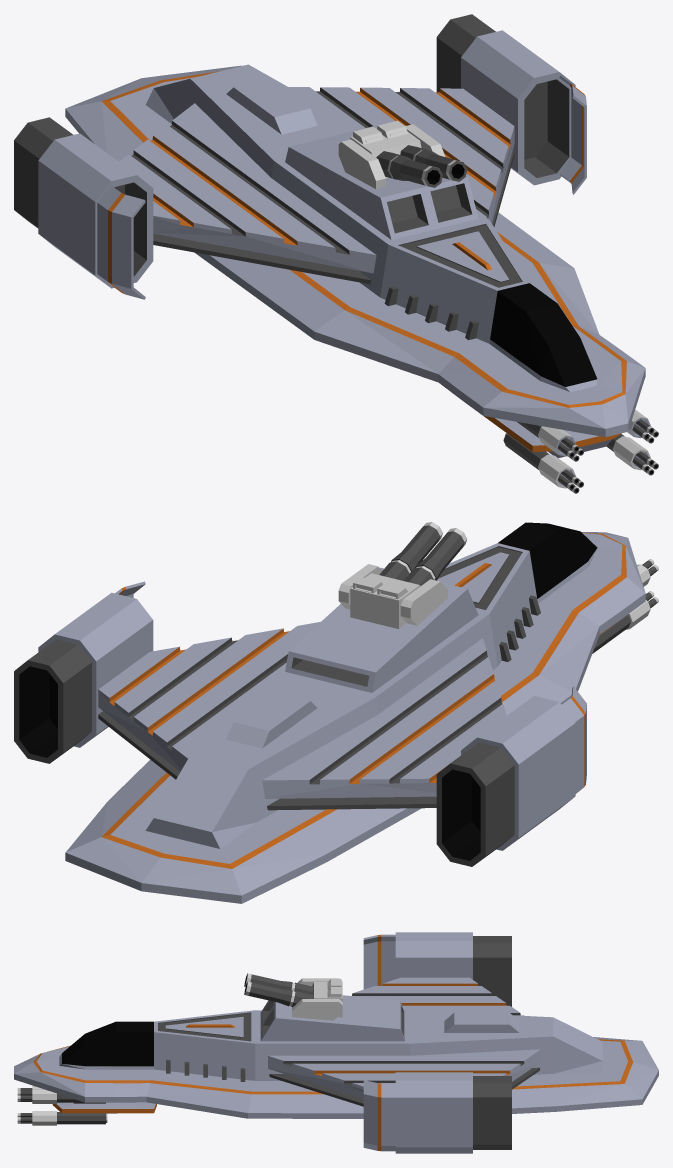
File: Spaceship13_4.fbx
3 views of the same model, one above another, from view 1: azimuth 30°, elevation 25°; view 2: azimuth 150°, elevation 25°; view 3: azimuth 270°, elevation 25° (orthographic). The views are drawn at different scales.
Parts seen in each view (by area): view 1: Spaceship13_4; view 2: Spaceship13_4; view 3: Spaceship13_4.
Part boxes in pixels (x1,y1,x2,y2): Spaceship13_4: [14, 14, 658, 493]; Spaceship13_4: [14, 522, 658, 903]; Spaceship13_4: [14, 932, 658, 1153].
Bounding box in the file's own units: 1974 × 783 × 3384.
